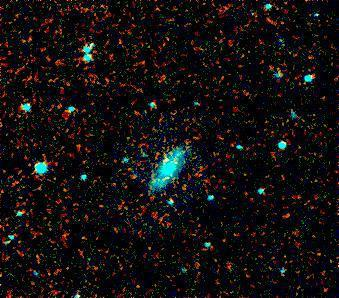star: (145, 67, 175, 97)
